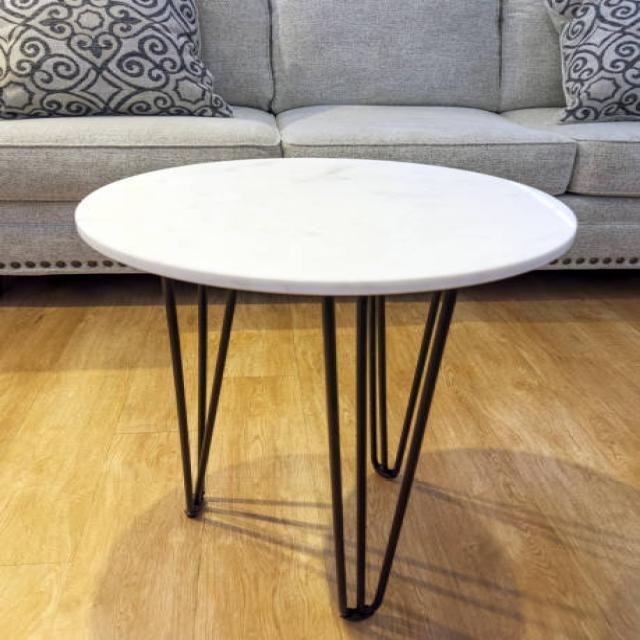table: (72, 154, 578, 620)
